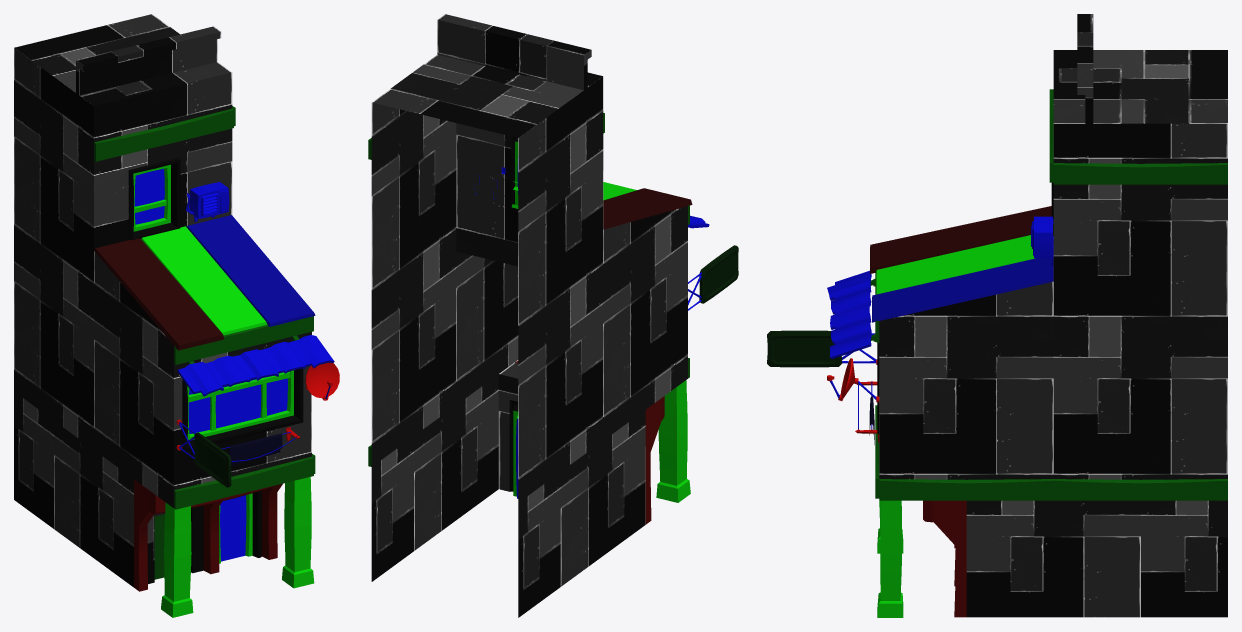
File: SM_HumanBuilding02.FBX
3 views of the same model, side by side, from view 1: azimuth 30°, elevation 25°; view 2: azimuth 150°, elevation 25°; view 3: azimuth 270°, elevation 25° (orthographic). The views are drawn at different scales.
Visible parts, largest first — view 1: Wall1559; view 2: Wall1559; view 3: Wall1559.
Boxes of the visible parts, x1,y1,x2,y2 form: Wall1559: [14, 14, 339, 617]; Wall1559: [368, 14, 738, 617]; Wall1559: [767, 14, 1227, 617].
Bounding box in the file's own units: 883 × 2116 × 2682.
